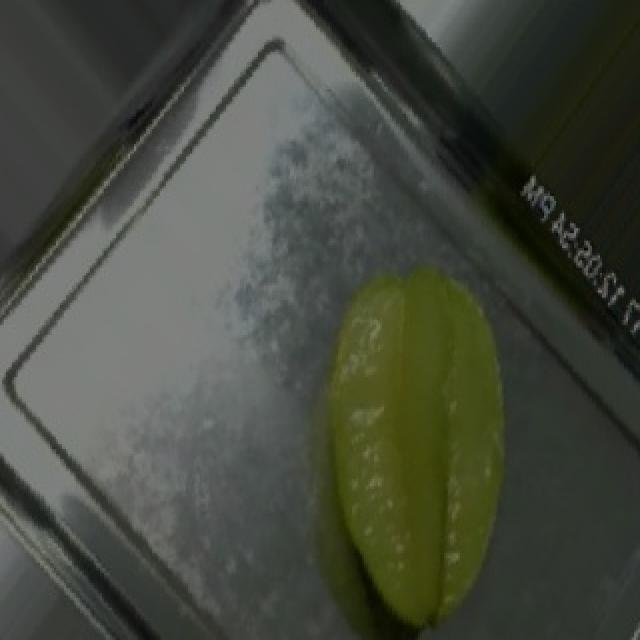fruit: (260, 223, 598, 628)
